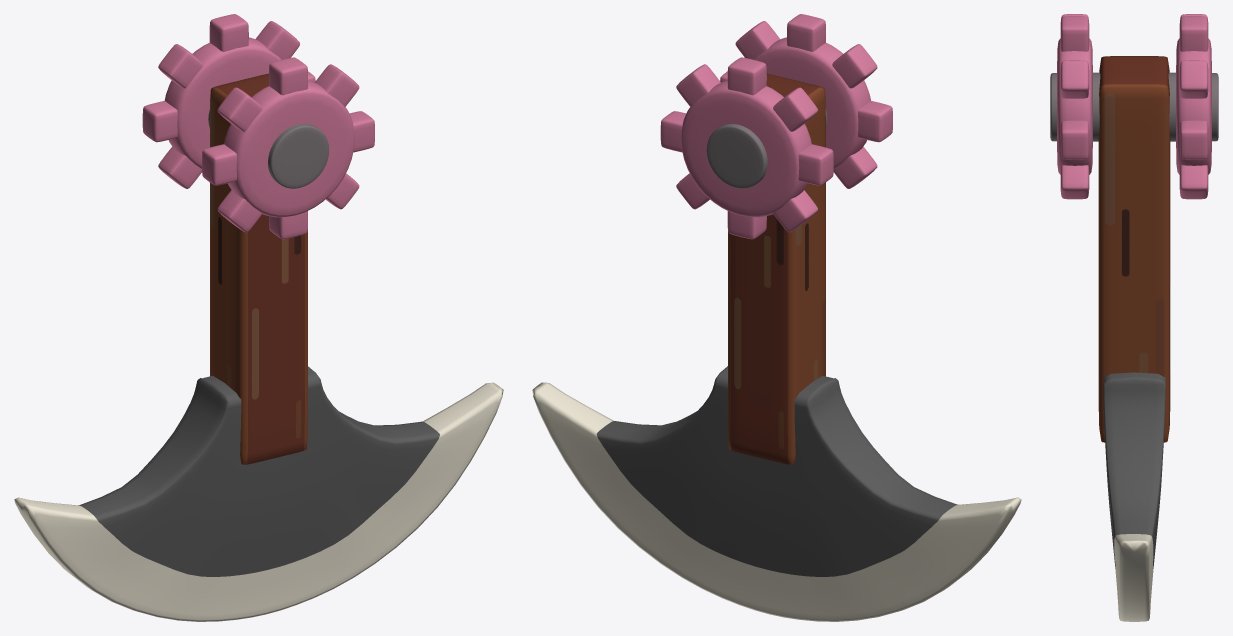
The model's file is axe.fbx.
3 views of the same model, side by side, from view 1: azimuth 30°, elevation 25°; view 2: azimuth 150°, elevation 25°; view 3: azimuth 270°, elevation 25° (orthographic).
Visible parts, largest first — view 1: axe_blade, axe_stick; view 2: axe_blade, axe_stick; view 3: axe_stick, axe_blade.
Boxes of the visible parts, x1,y1,x2,y2 form: axe_blade: (14,366,503,621); axe_stick: (142,14,374,464); axe_blade: (532,366,1021,621); axe_stick: (660,14,892,464); axe_stick: (1050,14,1218,442); axe_blade: (1103,372,1165,621).
Size of the model in its own units: 17.76 by 20.12 by 5.38.
Materials: 5 (1 with a texture image).
